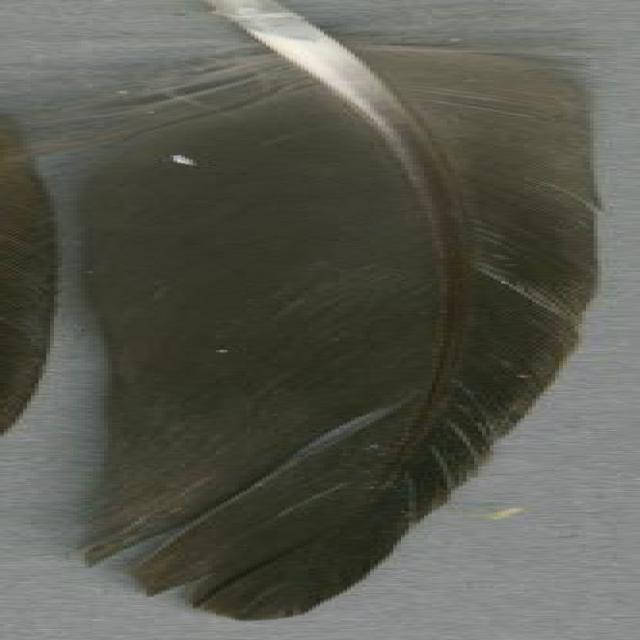feather: (39, 0, 604, 620)
